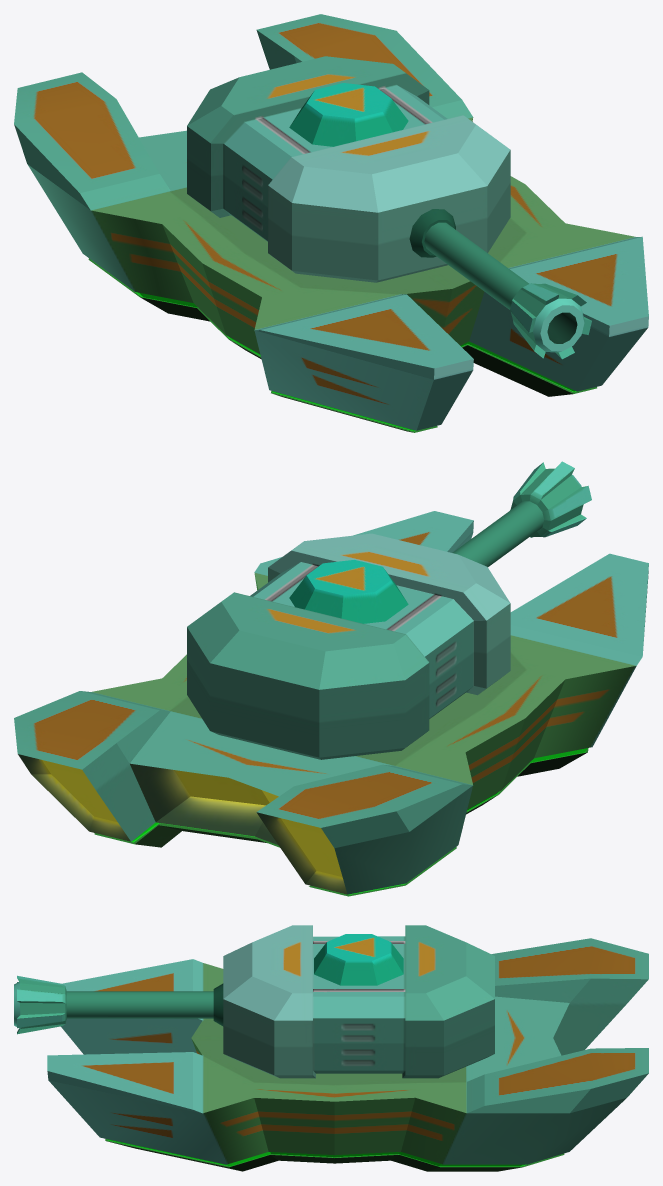
Rendered from Tanker.fbx.
3 views of the same model, one above another, from view 1: azimuth 30°, elevation 25°; view 2: azimuth 150°, elevation 25°; view 3: azimuth 270°, elevation 25° (orthographic). The views are drawn at different scales.
Visible parts, largest first — view 1: Body; view 2: Body; view 3: Body.
Boxes of the visible parts, x1,y1,x2,y2 form: Body: (14, 14, 648, 432); Body: (14, 461, 648, 896); Body: (14, 925, 648, 1171).
Bounding box in the file's own units: 548 × 287 × 975.
2 materials, 2 textured.
